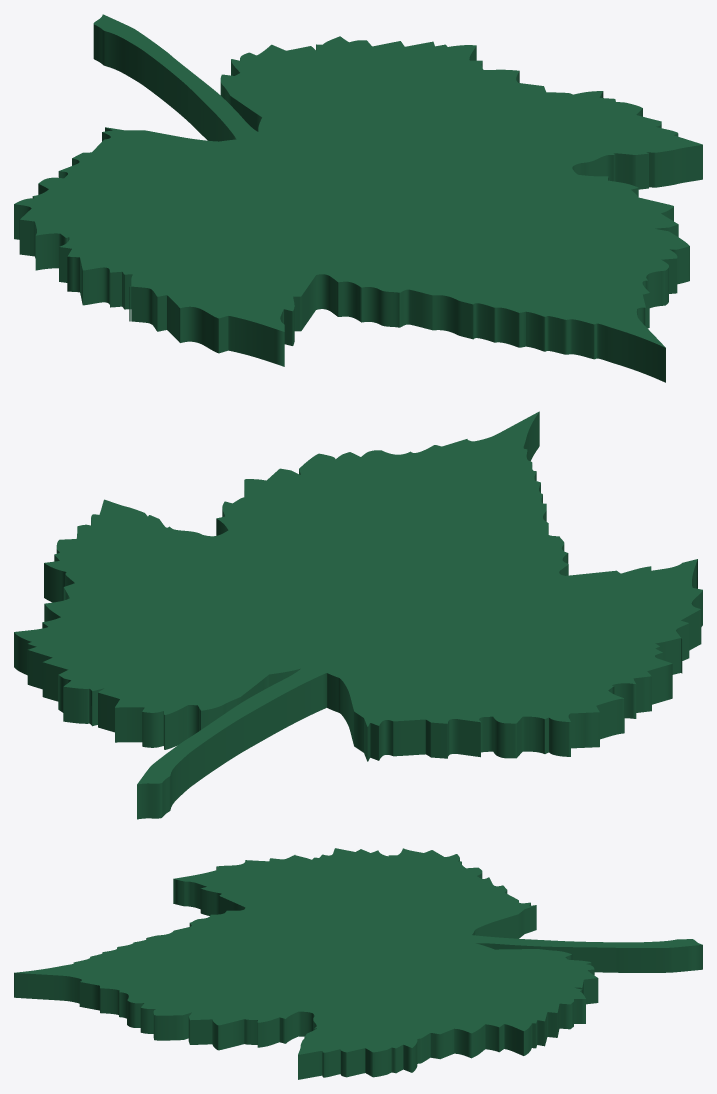
File: leaf.glb
The picture shows the model from 3 angles, top to bottom: view 1: azimuth 30°, elevation 25°; view 2: azimuth 150°, elevation 25°; view 3: azimuth 270°, elevation 25°; orthographic projection. The views are drawn at different scales.
Visible parts, largest first — view 1: path125; view 2: path125; view 3: path125.
Boxes of the visible parts, x1,y1,x2,y2 form: path125: (14,14,702,382); path125: (14,411,702,819); path125: (14,848,702,1079).
Bounding box in the file's own units: 0.4656 × 0.0261 × 0.6551.
